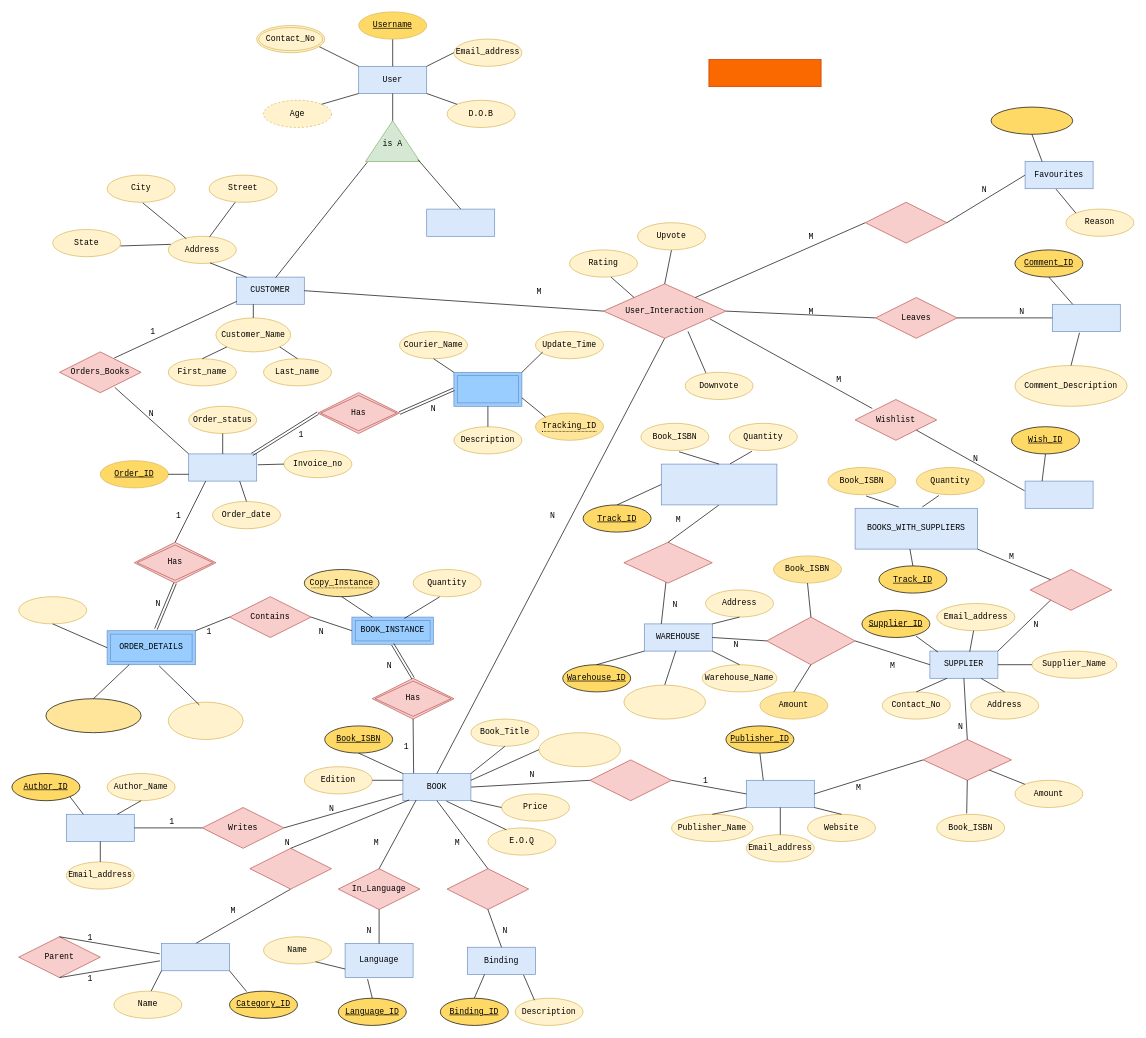
Image size: 1146x1038. Some labels were removed from this diagram. The centre of each missing label's shape, as x and y in pixels:
Administrator: pixel 460 222
Amount_To_Pay: pixel 205 720
AUTHOR: pixel 100 828
Book_Category: pixel 290 868
BOOKS_IN_WAREHOUSE: pixel 719 484
Category: pixel 195 957
Comments: pixel 1086 318
Contains_Books: pixel 667 562
Copies_in_stock: pixel 579 749
Discount: pixel 52 610
ER DIAGRAM: pixel 764 73
Favourite: pixel 906 222
Favourite_ID: pixel 1031 120
Have_Books: pixel 1071 589
In_Binding: pixel 487 889
Manager_contact: pixel 664 701
Order_Details_ID: pixel 93 715
ORDERS: pixel 222 467
Provides_Books: pixel 810 640
PUBLISHER: pixel 780 794
Publishes: pixel 630 780
Supplies_To: pixel 967 759
TRACKING_ DETAILS: pixel 487 389
User_Wishlist: pixel 1058 494
